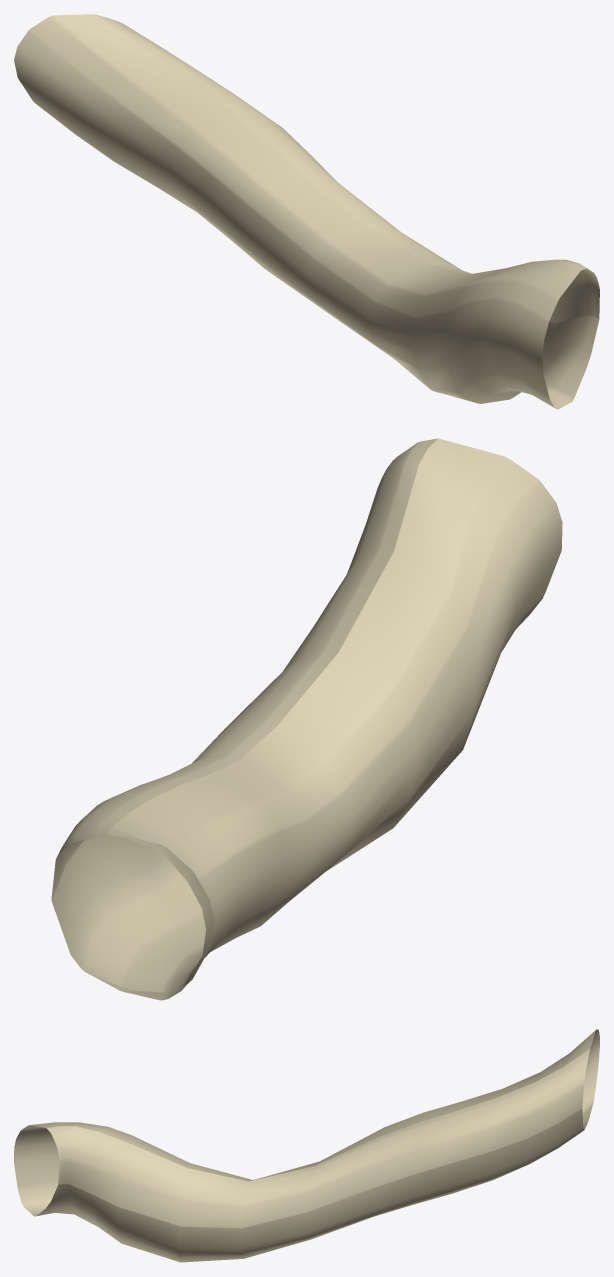
The model's file is optic_nerve.obj.
The picture shows the model from 3 angles, top to bottom: view 1: azimuth 30°, elevation 25°; view 2: azimuth 150°, elevation 25°; view 3: azimuth 270°, elevation 25°; orthographic projection. The views are drawn at different scales.
Visible parts, largest first — view 1: Default; view 2: Default; view 3: Default.
Boxes of the visible parts, left/top/right/bottom form: Default: left=14, top=14, right=599, bottom=409; Default: left=51, top=438, right=562, bottom=1000; Default: left=14, top=1029, right=599, bottom=1262.
Size of the model in its own units: 2.02 by 1.77 by 5.51.
